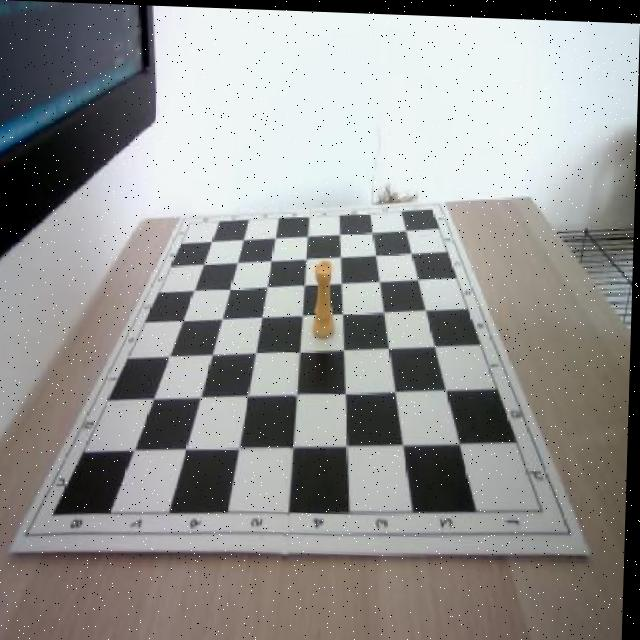white-queen: (313, 259, 339, 339)
